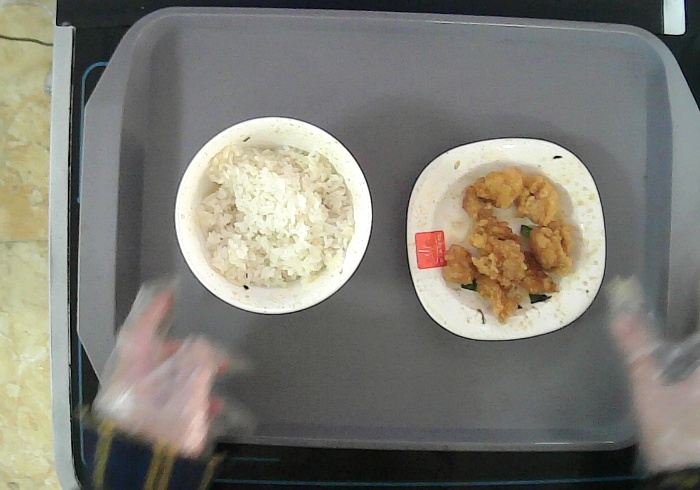SHKJ-Bai_Se_Si_Fang_Cai_Die: (398, 131, 611, 344)
SHKJ-Fan_Wan: (171, 110, 381, 322)
